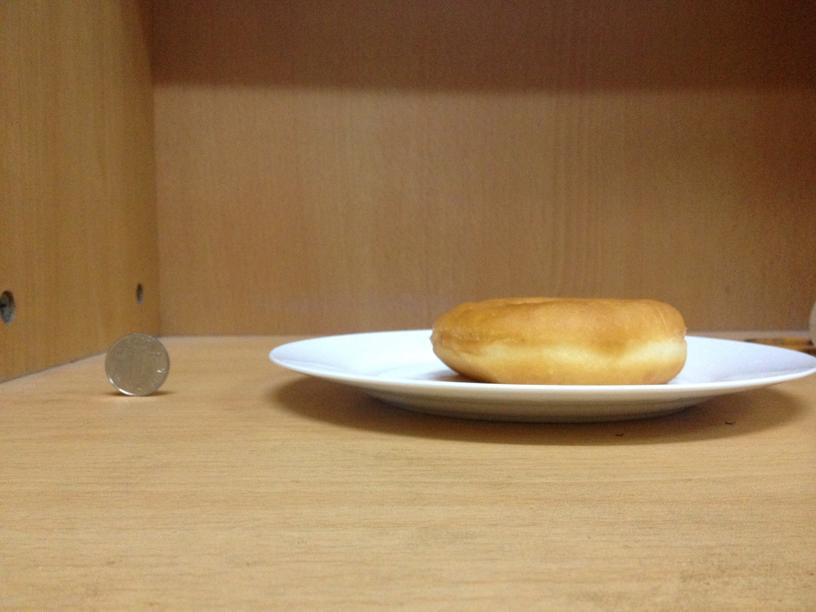coin: (103, 331, 170, 395)
doughnut: (429, 300, 686, 383)
